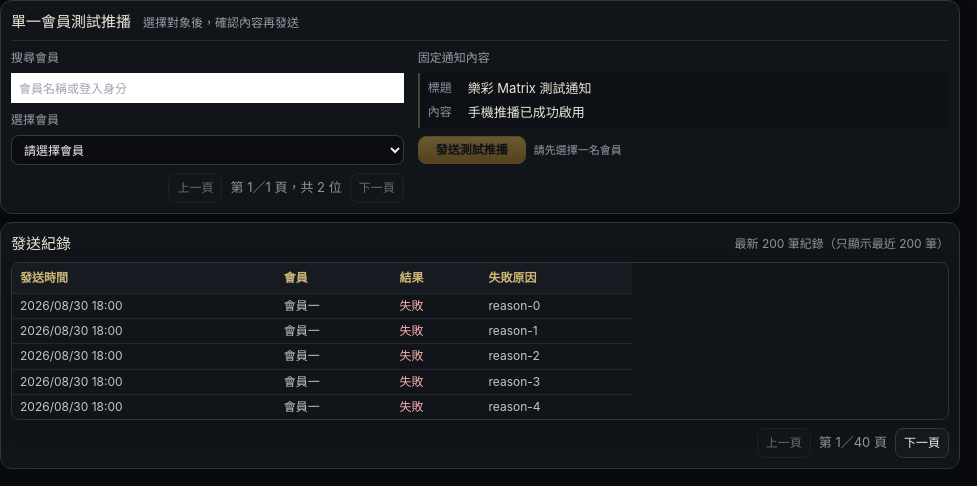
it: NotificationManagement › renders delivery logs five per page in one semantic responsive table
The image size is (977, 486).
expect the text "reason-5" is not shown: met
Click the button "下一頁" in the row of "40": (922, 443) top-left (895, 428), bottom-right (949, 458)
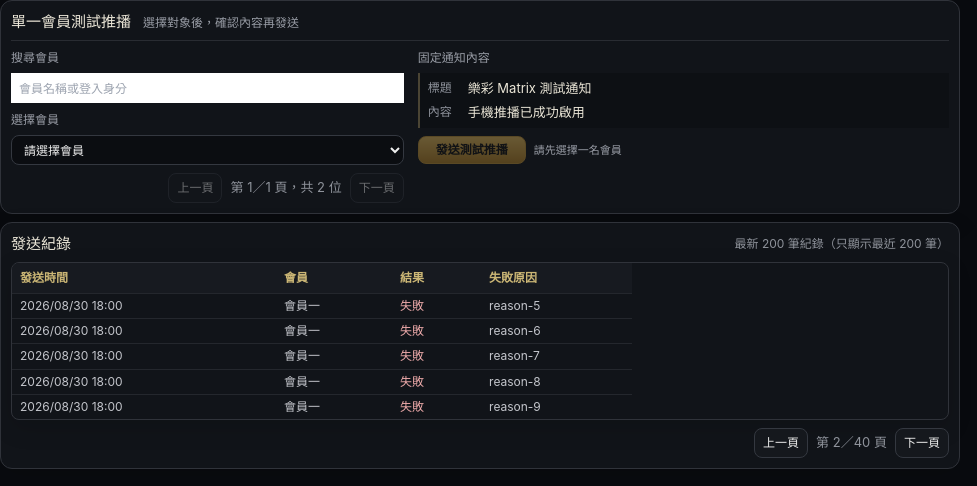
expect the text "第 2／40 頁" is shown: met, box top-left (816, 433), bottom-right (887, 453)
expect the text "reason-5" is shown: met, box top-left (481, 294), bottom-right (632, 319)
expect the text "reason-4" is gone: met
